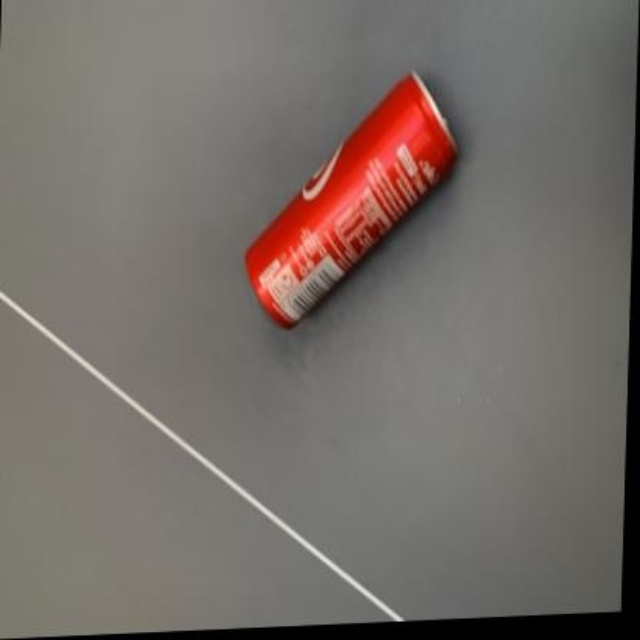trash: (246, 74, 455, 326)
